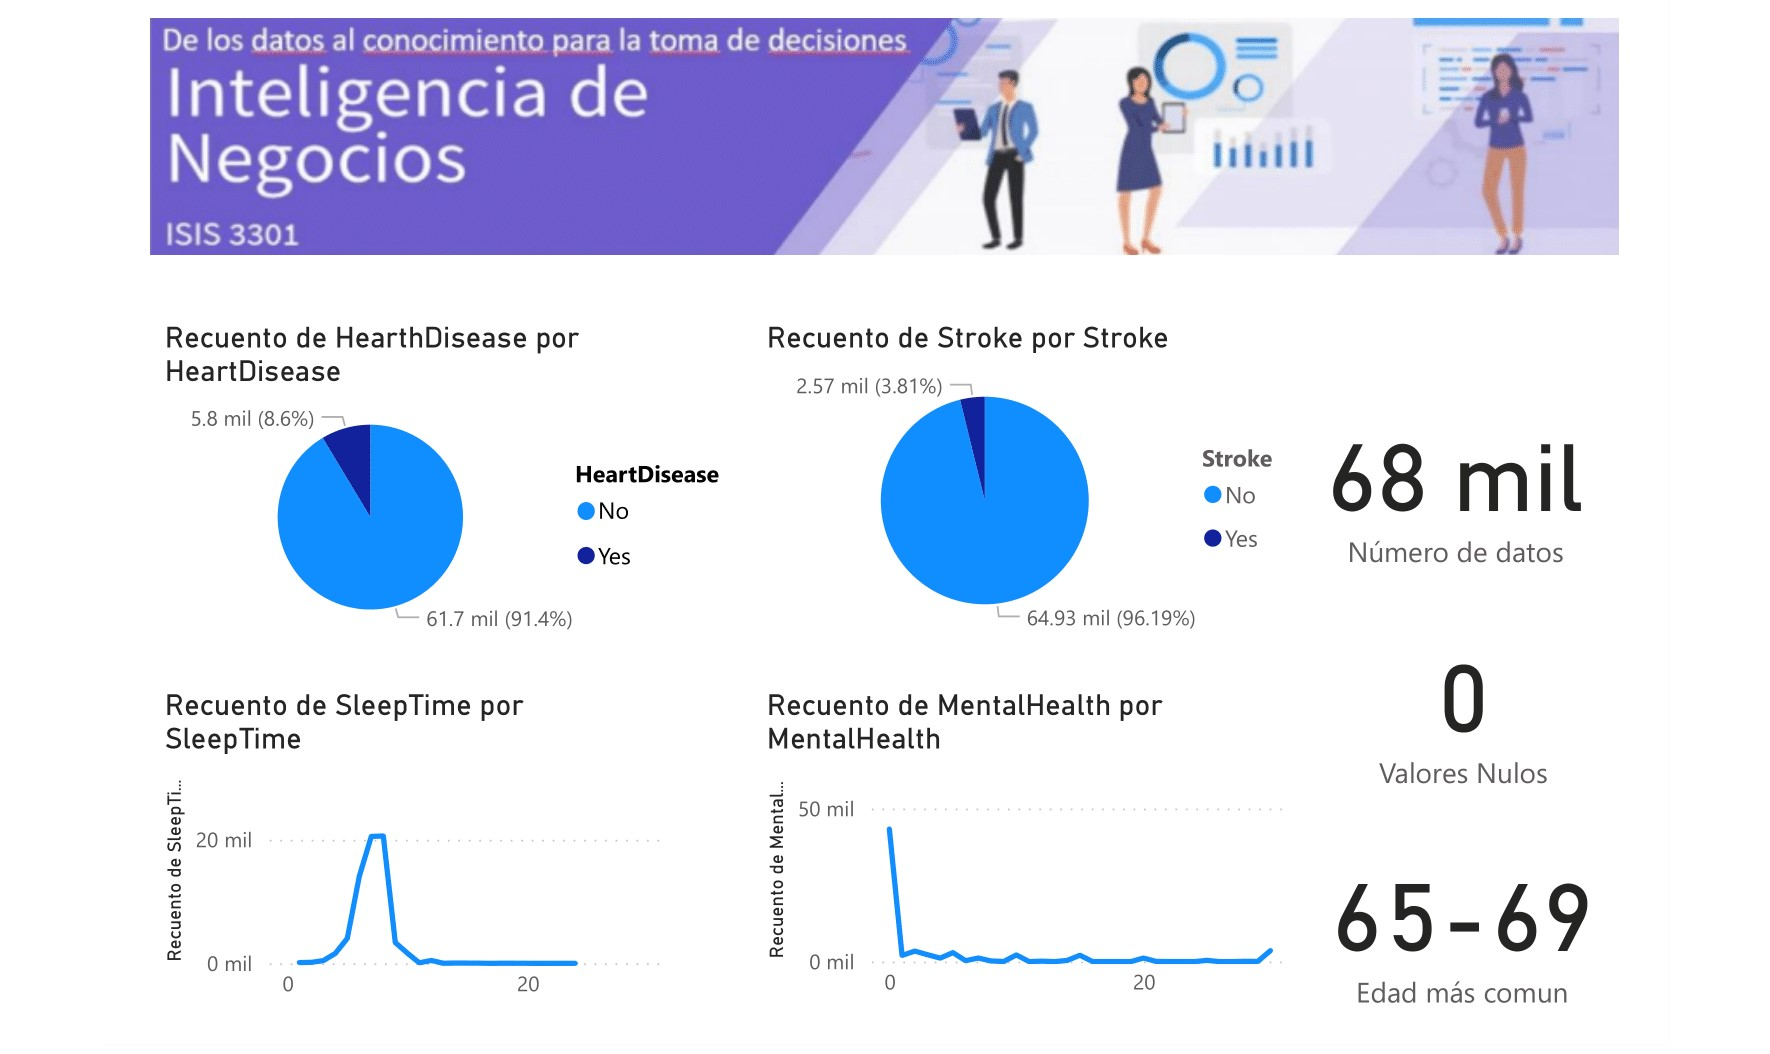

Layout of this report page (visuals, bound fields, positions):
{"tool":"tableau","page":{"name":"Dashboard 1","canvas":[1000,800],"ordinal":0},"visuals":[{"type":"text","box":[8,8,984,115]},{"type":"worksheet","title":"#datos","mark":"Automatic","box":[8,123,287,122]},{"type":"worksheet","title":"#Nulos","mark":"Automatic","box":[295,123,371,122]},{"type":"worksheet","title":"Edad mas comun","mark":"Pie","box":[666,123,163,669]},{"type":"legend","title":"Edad mas comun","param":"[federated.0meff971mbwlgn1dy3nvt17mds6f].[none:AgeCategory:nk]","box":[829,123,163,669]},{"type":"worksheet","title":"Recuento de Stroke por Stroke","mark":"Pie","box":[8,245,201.2,278.2]},{"type":"legend","title":"Recuento de Stroke por Stroke","param":"[federated.0meff971mbwlgn1dy3nvt17mds6f].[none:Stroke:nk]","box":[209.2,245,85.8,278.2]},{"type":"worksheet","title":"Recuento de HeartDisease por HeartDisease","mark":"Pie","box":[295,245,205,278.2]},{"type":"legend","title":"Recuento de HeartDisease por HeartDisease","param":"[federated.0meff971mbwlgn1dy3nvt17mds6f].[none:HeartDisease:nk]","box":[500,245,166,278.2]},{"type":"worksheet","title":"Recuento de MentalHealth por MentalHealth","mark":"Automatic","rows":["Index"],"cols":["MentalHealth"],"box":[8,523.2,287,268.8]},{"type":"worksheet","title":"Recuento de SleepTime por SleepTime","mark":"Line","rows":["Index"],"cols":["SleepTime"],"box":[295,523.2,371,268.8]}]}

Visuals, with their boxes on the page's 1000x800 design canvas (x1, y1, x2, y2). These are canvas units, not pixel positions in the 1770x1054 screenshot, which may show the page scaled, cropped or inside an application window:
text: box(8, 8, 992, 123)
"#datos" worksheet: box(8, 123, 295, 245)
"#Nulos" worksheet: box(295, 123, 666, 245)
"Edad mas comun" worksheet (Pie marks): box(666, 123, 829, 792)
"Edad mas comun" legend: box(829, 123, 992, 792)
"Recuento de Stroke por Stroke" worksheet (Pie marks): box(8, 245, 209, 523)
"Recuento de Stroke por Stroke" legend: box(209, 245, 295, 523)
"Recuento de HeartDisease por HeartDisease" worksheet (Pie marks): box(295, 245, 500, 523)
"Recuento de HeartDisease por HeartDisease" legend: box(500, 245, 666, 523)
"Recuento de MentalHealth por MentalHealth" worksheet: box(8, 523, 295, 792)
"Recuento de SleepTime por SleepTime" worksheet (Line marks): box(295, 523, 666, 792)
